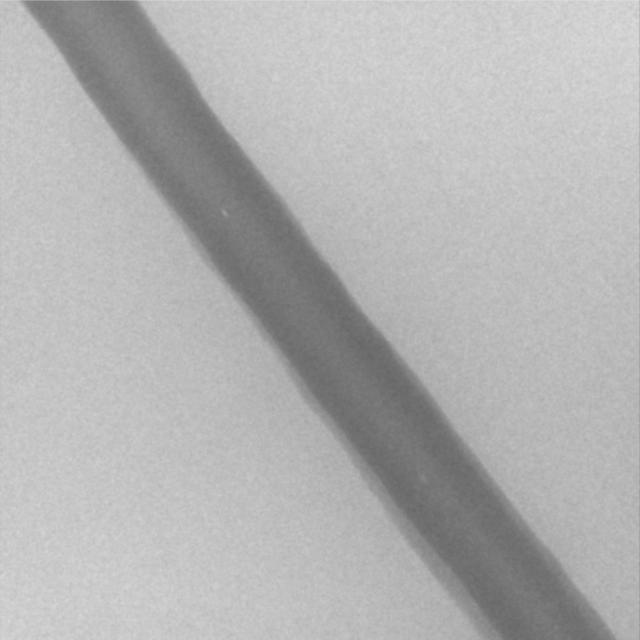air hole: (220, 208, 231, 220), (418, 475, 428, 486)
